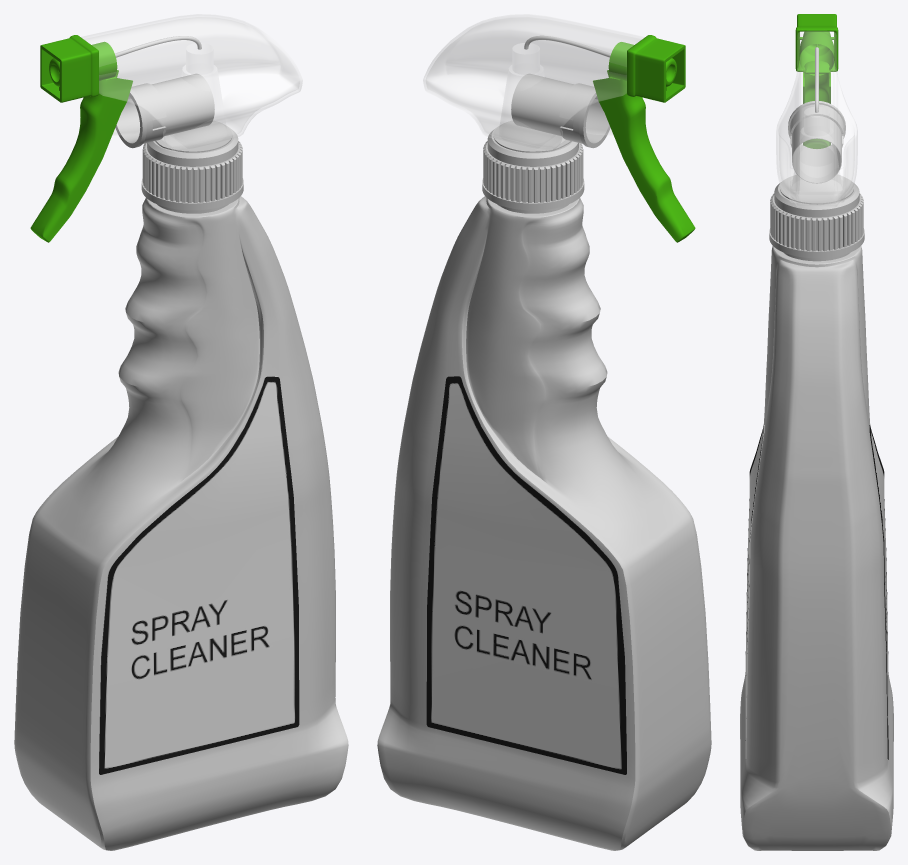
The model's file is spray.glb.
3 renders of one model, left to right at view 1: azimuth 30°, elevation 25°; view 2: azimuth 150°, elevation 25°; view 3: azimuth 270°, elevation 25°, orthographic. The views are drawn at different scales.
Parts seen in each view (by area): view 1: Spray Bottle, Label, diffuser, Cap, diffuser.007, diffuser.008, diffuser.006, Cap.001, diffuser.002, diffuser.004, diffuser.001; view 2: Spray Bottle, Label, diffuser, Cap, diffuser.007, diffuser.008, diffuser.006, Cap.001, diffuser.002, diffuser.004, diffuser.001; view 3: Spray Bottle, diffuser, Cap, diffuser.008, Label, Cap.001, diffuser.002, diffuser.007, diffuser.006, diffuser.004.
Boxes of the visible parts, <box> form: Spray Bottle: <box>14,196,348,850</box>; Label: <box>99,376,299,774</box>; diffuser: <box>81,14,302,150</box>; Cap: <box>141,126,243,210</box>; diffuser.007: <box>30,70,132,242</box>; diffuser.008: <box>115,73,214,148</box>; diffuser.006: <box>40,35,98,102</box>; Cap.001: <box>155,120,232,152</box>; diffuser.002: <box>182,43,225,126</box>; diffuser.004: <box>49,41,117,86</box>; diffuser.001: <box>113,99,139,135</box>; Spray Bottle: <box>377,196,711,850</box>; Label: <box>426,376,626,774</box>; diffuser: <box>423,14,644,150</box>; Cap: <box>482,126,584,210</box>; diffuser.007: <box>593,70,695,242</box>; diffuser.008: <box>511,73,610,148</box>; diffuser.006: <box>627,35,685,102</box>; Cap.001: <box>493,120,571,152</box>; diffuser.002: <box>500,43,543,126</box>; diffuser.004: <box>608,42,676,86</box>; diffuser.001: <box>586,99,612,135</box>; Spray Bottle: <box>740,246,893,850</box>; diffuser: <box>776,31,857,206</box>; Cap: <box>769,179,864,258</box>; diffuser.008: <box>788,101,845,183</box>; Label: <box>745,425,888,759</box>; Cap.001: <box>780,174,853,204</box>; diffuser.002: <box>792,107,841,186</box>; diffuser.007: <box>803,61,830,148</box>; diffuser.006: <box>795,14,838,71</box>; diffuser.004: <box>799,31,834,75</box>.
Bounding box in the file's own units: 0.0962 × 0.2579 × 0.0491.
Materials: 5 (1 with a texture image).
